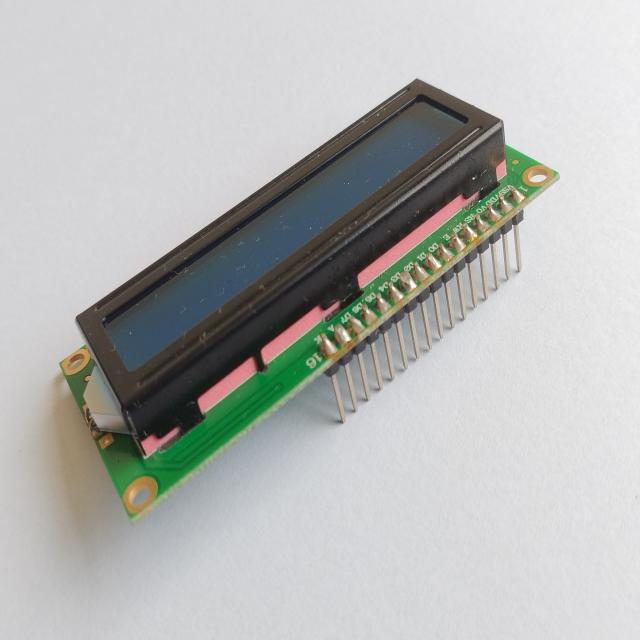lcd: (61, 68, 564, 542)
